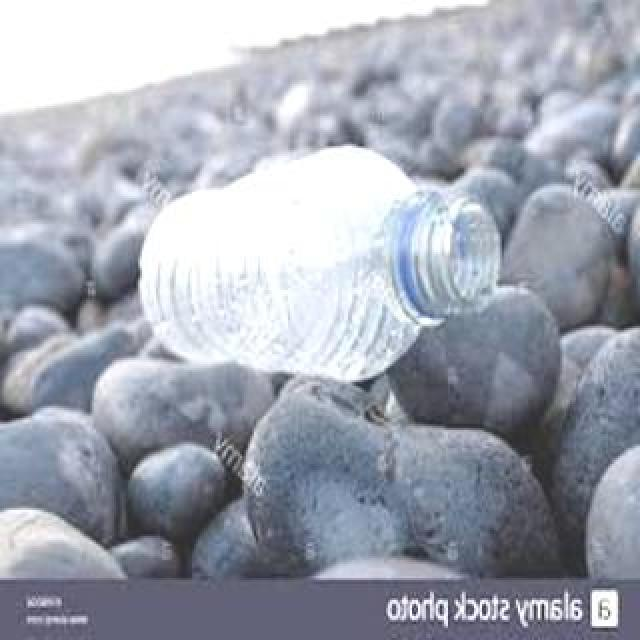Pet_Bottle: (125, 141, 503, 383)
